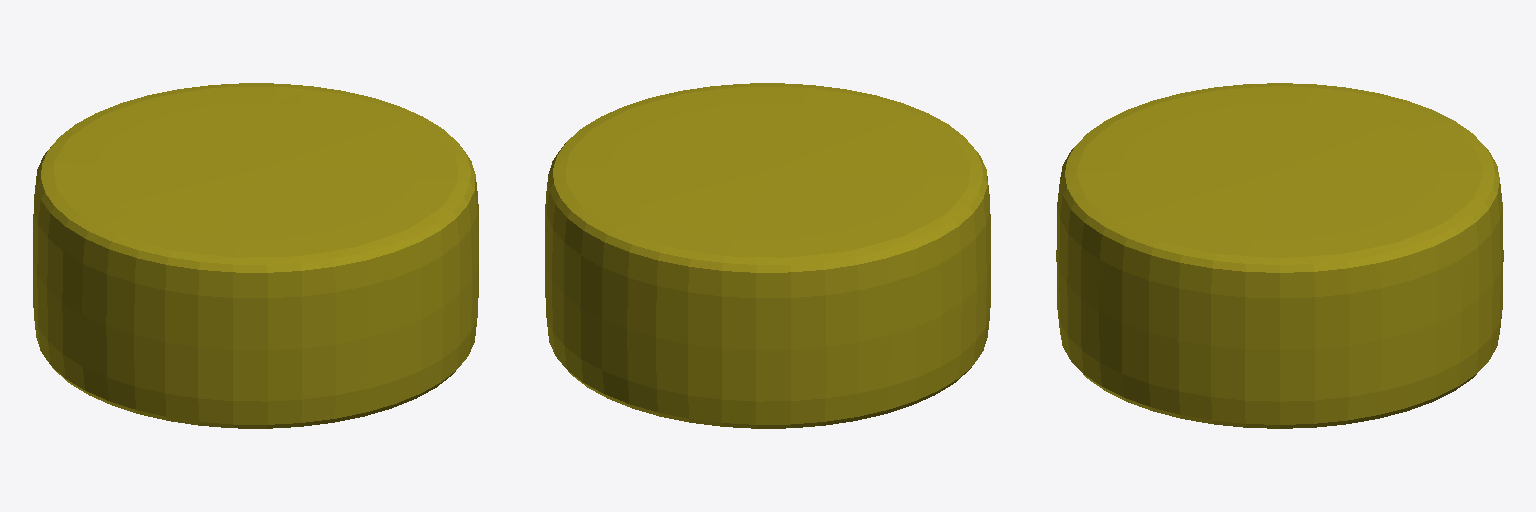
The model's file is RoundedCheese01.obj.
3 views of the same model, side by side, from view 1: azimuth 30°, elevation 25°; view 2: azimuth 150°, elevation 25°; view 3: azimuth 270°, elevation 25° (orthographic).
Visible parts, largest first — view 1: RoundedCheese01_Cylinder; view 2: RoundedCheese01_Cylinder; view 3: RoundedCheese01_Cylinder.
Boxes of the visible parts, <box> form: RoundedCheese01_Cylinder: <box>33,83,478,428</box>; RoundedCheese01_Cylinder: <box>545,83,990,428</box>; RoundedCheese01_Cylinder: <box>1056,83,1503,428</box>.
Size of the model in its own units: 8.42 by 3.55 by 8.42.